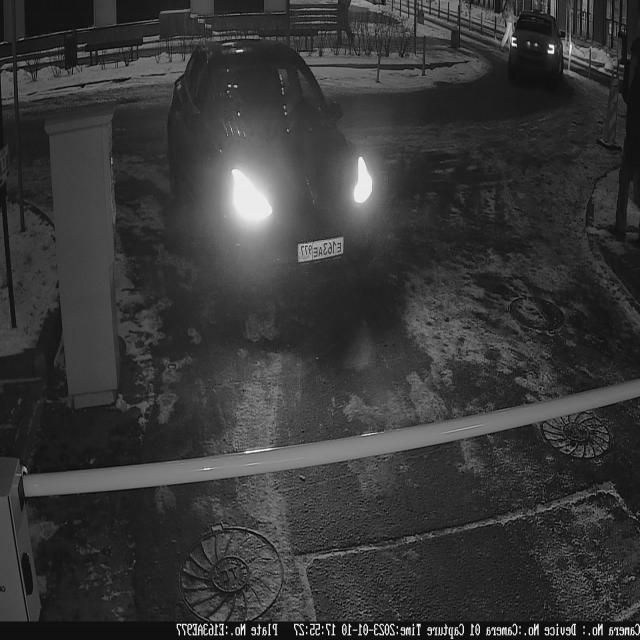car-plate-numbers: (296, 232, 348, 266)
